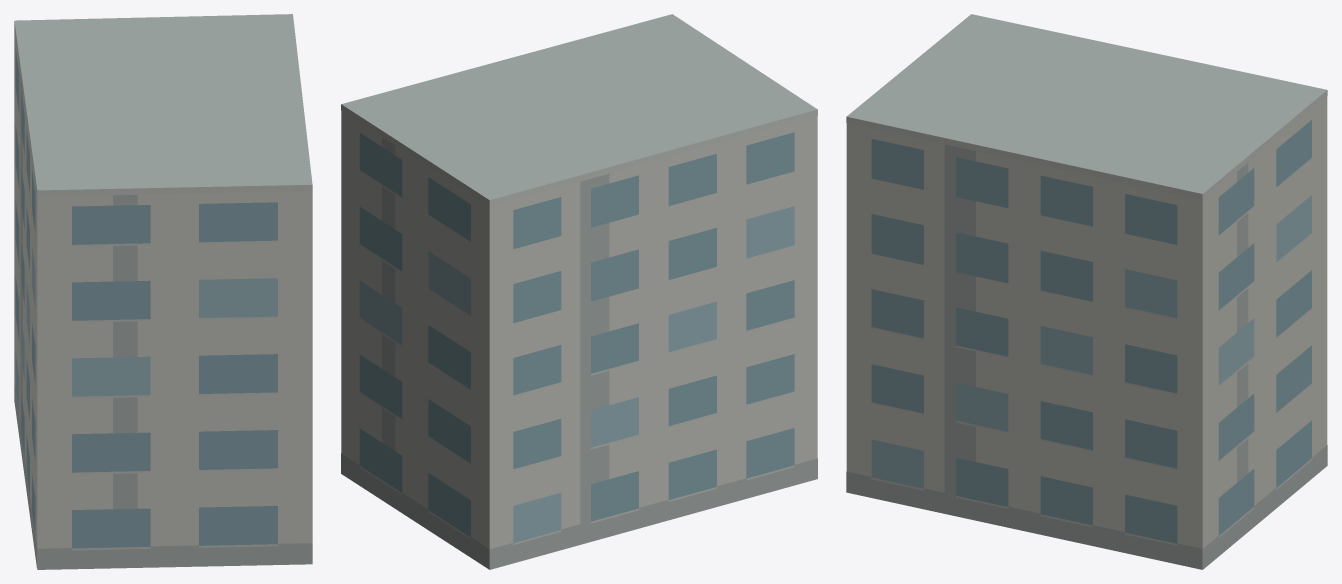
Rendered from survey-upis-32887408.glb.
The picture shows the model from 3 angles, left to right: view 1: azimuth 30°, elevation 25°; view 2: azimuth 150°, elevation 25°; view 3: azimuth 270°, elevation 25°; orthographic projection. The views are drawn at different scales.
Parts seen in each view (by area): view 1: survey-upis-32887408.tmp; view 2: survey-upis-32887408.tmp; view 3: survey-upis-32887408.tmp.
Boxes of the visible parts, bbox=[...] form: survey-upis-32887408.tmp: bbox=[14, 14, 312, 569]; survey-upis-32887408.tmp: bbox=[341, 14, 817, 569]; survey-upis-32887408.tmp: bbox=[846, 14, 1327, 569].
Bounding box in the file's own units: 14.49 × 14.1 × 16.36.
